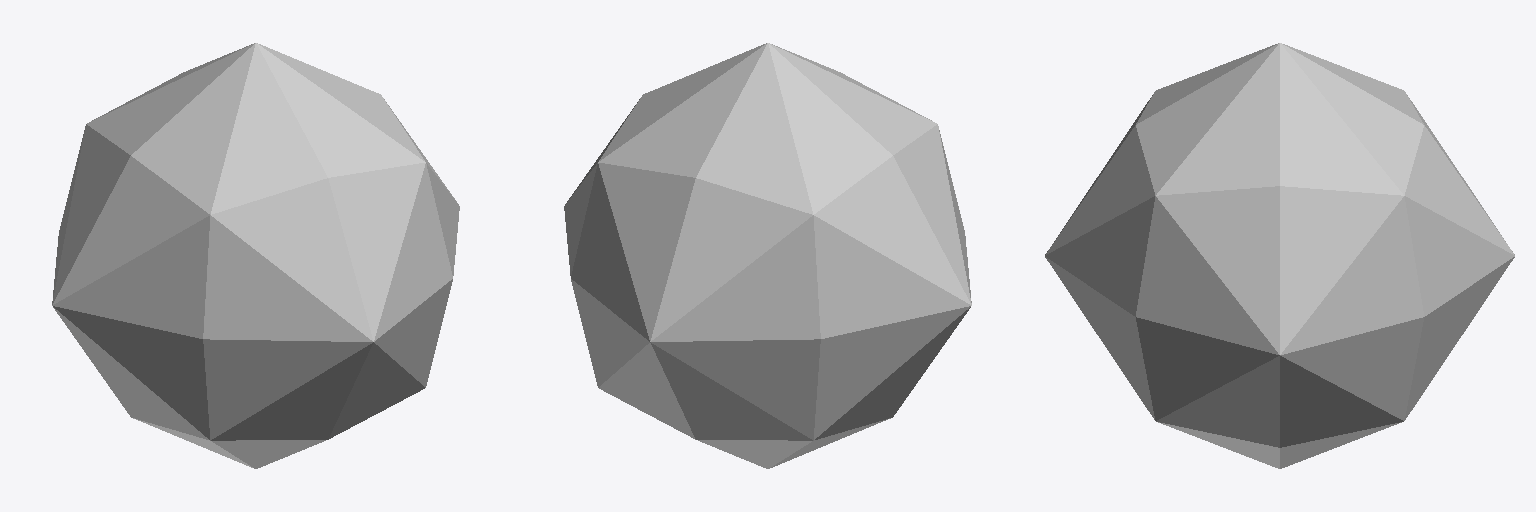
Rendered from disdyakis-dodecahedron.obj.
The picture shows the model from 3 angles: view 1: azimuth 30°, elevation 25°; view 2: azimuth 150°, elevation 25°; view 3: azimuth 270°, elevation 25°; orthographic projection.
Visible parts, largest first — view 1: Disdyakisdodecahedron; view 2: Disdyakisdodecahedron; view 3: Disdyakisdodecahedron.
Boxes of the visible parts, x1=… form: Disdyakisdodecahedron: x1=52, y1=43, x2=459, y2=468; Disdyakisdodecahedron: x1=564, y1=43, x2=971, y2=468; Disdyakisdodecahedron: x1=1045, y1=43, x2=1514, y2=468.
Size of the model in its own units: 11.54 by 11.54 by 11.54.